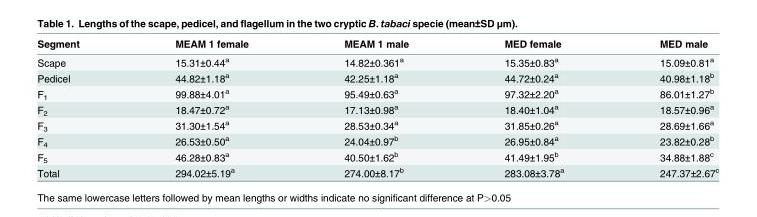table: (36, 37, 718, 178)
table column: (126, 37, 295, 178), (295, 37, 455, 178), (455, 37, 611, 178), (611, 37, 718, 178), (36, 37, 126, 178)
table column header: (36, 37, 718, 51)
table row: (36, 51, 718, 69), (36, 69, 718, 85), (36, 85, 718, 101), (36, 101, 718, 117), (36, 132, 718, 148), (36, 148, 718, 164), (36, 117, 718, 132), (36, 37, 718, 51), (36, 164, 718, 178)
